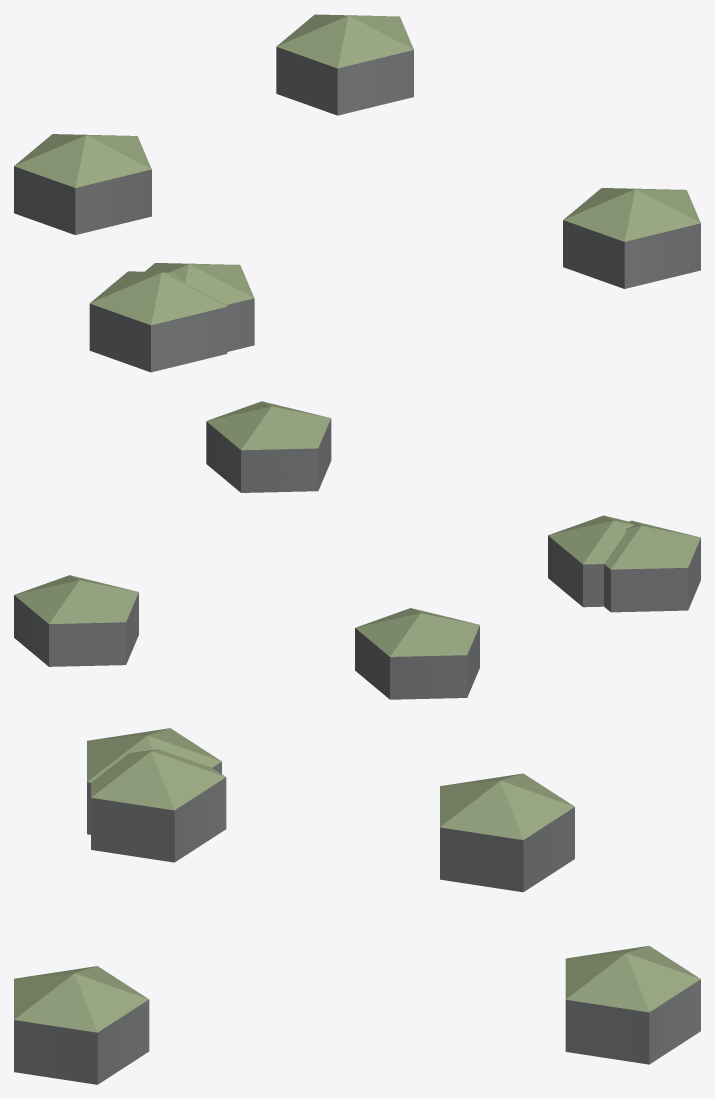
Rendered from Rock_Pile_Used.fbx.
The picture shows the model from 3 angles, top to bottom: view 1: azimuth 30°, elevation 25°; view 2: azimuth 150°, elevation 25°; view 3: azimuth 270°, elevation 25°; orthographic projection. The views are drawn at different scales.
Parts seen in each view (by area): view 1: Res_Rock_Pile_Used; view 2: Res_Rock_Pile_Used; view 3: Res_Rock_Pile_Used.
Part boxes in pixels (x1=…): Res_Rock_Pile_Used: x1=14, y1=14, x2=700, y2=372; Res_Rock_Pile_Used: x1=14, y1=401, x2=700, y2=699; Res_Rock_Pile_Used: x1=14, y1=728, x2=700, y2=1084.
Bounding box in the file's own units: 0.7516 × 0.12 × 0.7163.
